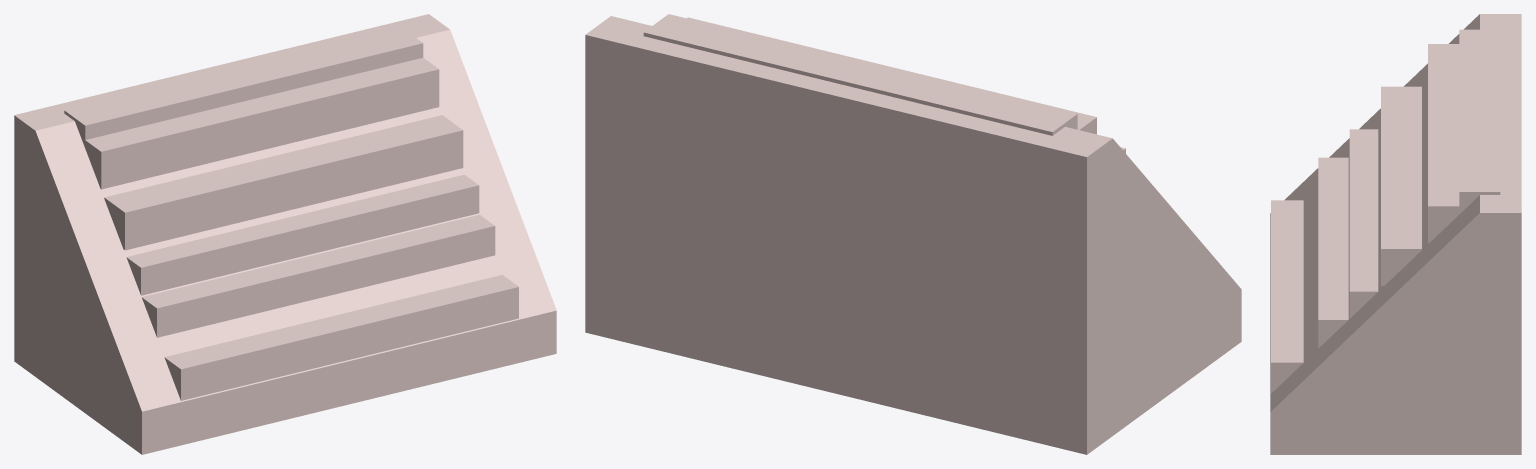
The model's file is Staircase_half.fbx.
3 renders of one model, left to right at view 1: azimuth 30°, elevation 25°; view 2: azimuth 150°, elevation 25°; view 3: azimuth 270°, elevation 25°, orthographic. The views are drawn at different scales.
Visible parts, largest first — view 1: Staircase_half; view 2: Staircase_half; view 3: Staircase_half.
Part boxes in pixels (left/top/right/bottom): Staircase_half: left=14, top=14, right=556, bottom=454; Staircase_half: left=585, top=14, right=1241, bottom=454; Staircase_half: left=1270, top=14, right=1521, bottom=454.
Bounding box in the file's own units: 300 × 172 × 160.
